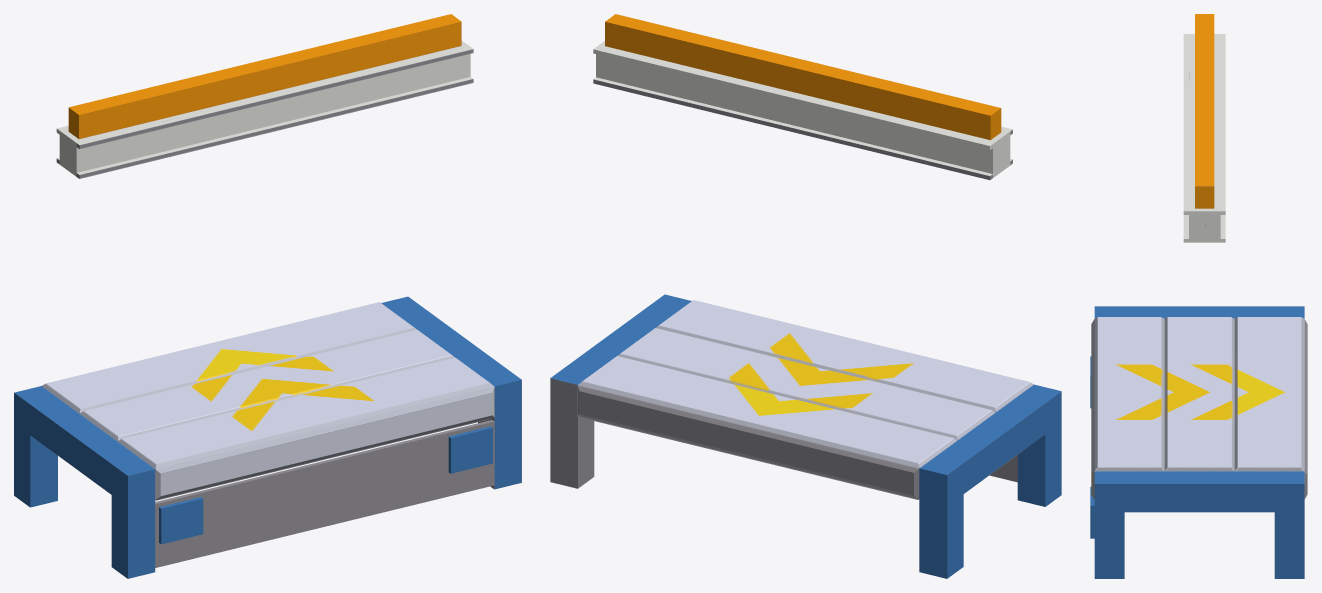
The model's file is delivery_zone.glb.
The picture shows the model from 3 angles, left to right: view 1: azimuth 30°, elevation 25°; view 2: azimuth 150°, elevation 25°; view 3: azimuth 270°, elevation 25°; orthographic projection. The views are drawn at different scales.
Visible parts, largest first — view 1: Cube.003; view 2: Cube.003; view 3: Cube.003.
Boxes of the visible parts, left/top/right/bottom form: Cube.003: left=14, top=14, right=521, bottom=578; Cube.003: left=550, top=14, right=1061, bottom=578; Cube.003: left=1090, top=14, right=1307, bottom=578.
Bounding box in the file's own units: 4 × 4.1 × 2.07.
1 material, 1 textured.
